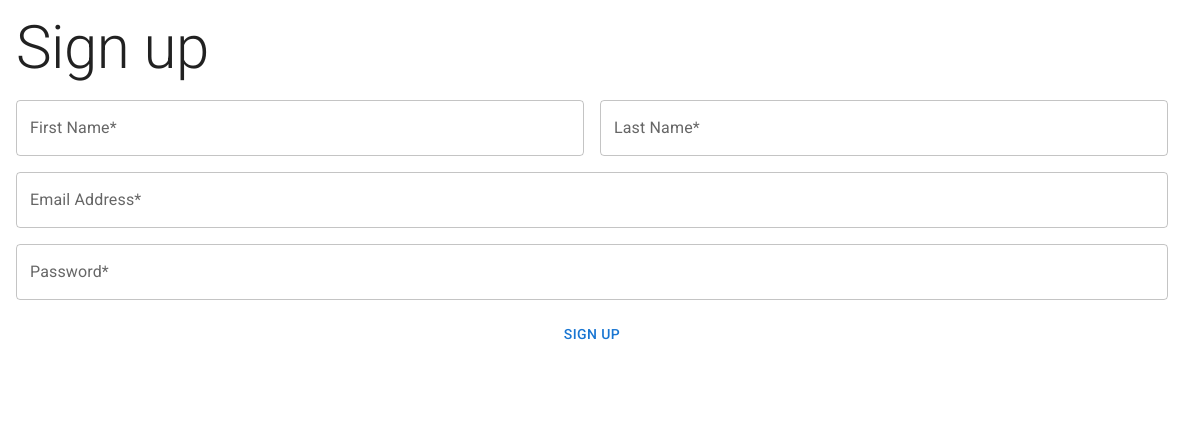
Test: template spec › should appear message of server error
The width and height of the screenshot is (1185, 426).
Type "João" into the element with test id "firstNameInput" at (300, 128), box left=16, top=100, right=584, bottom=156
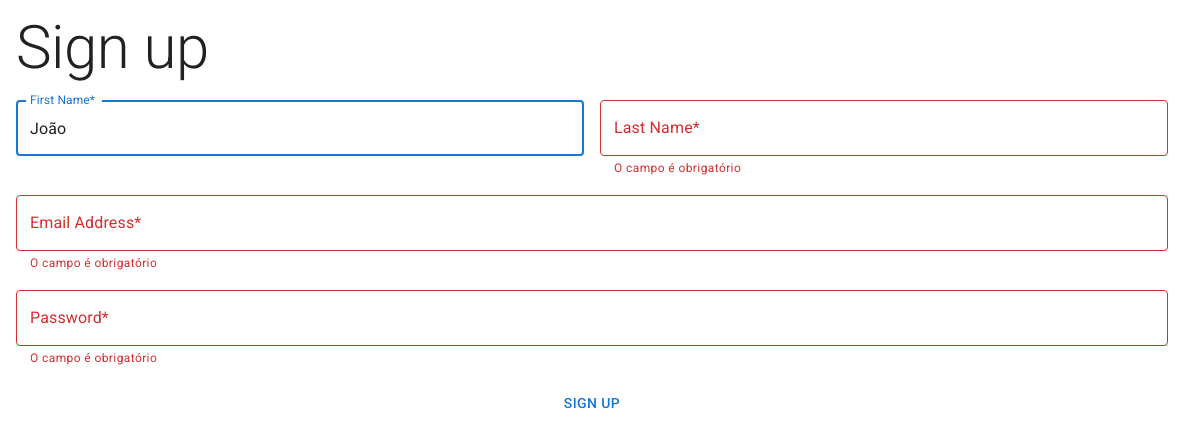
Type "Silva" into the element with test id "lastNameInput" at (884, 140), box left=600, top=100, right=1168, bottom=179
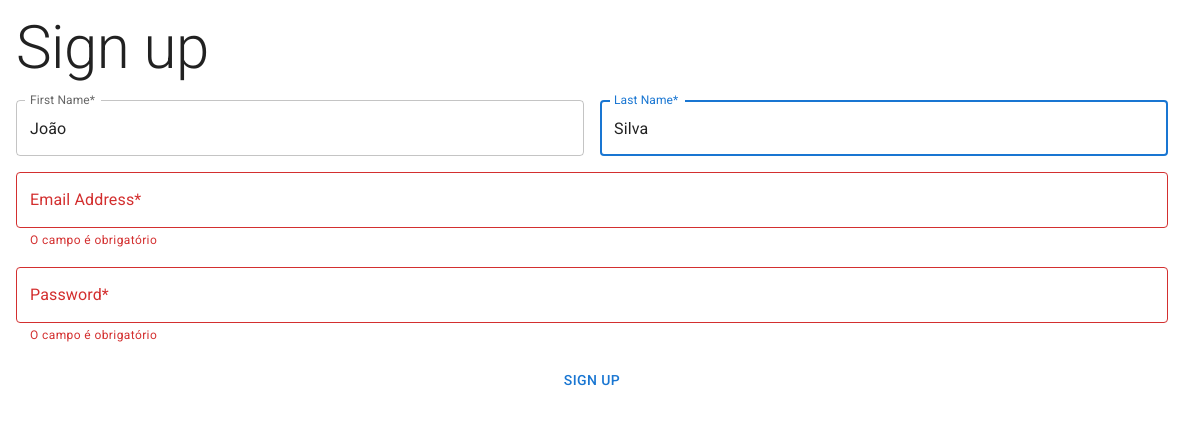
Type "joao@gmail.com" into the element with test id "emailInput" at (592, 212), box left=16, top=172, right=1168, bottom=251
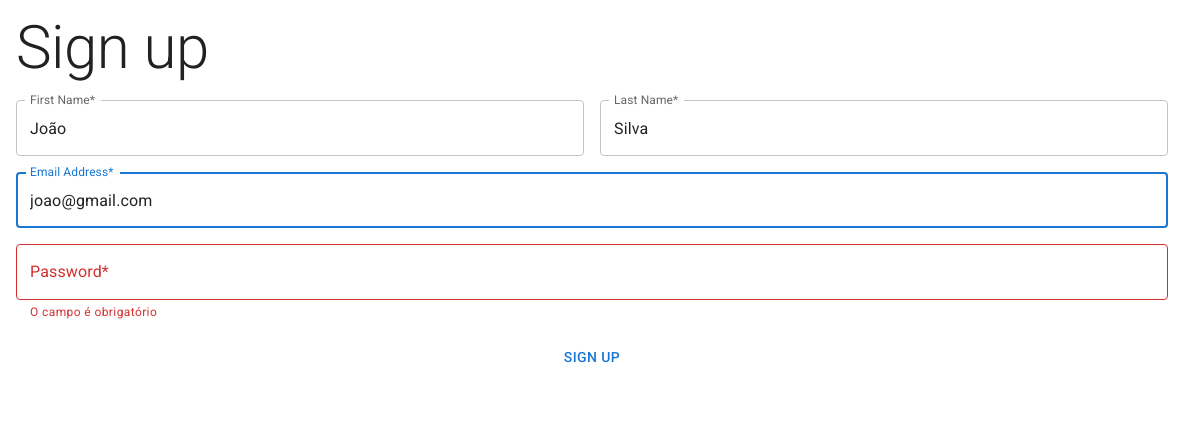
Type "123456789" into the element with test id "passwordInput" at (592, 284), box left=16, top=244, right=1168, bottom=323
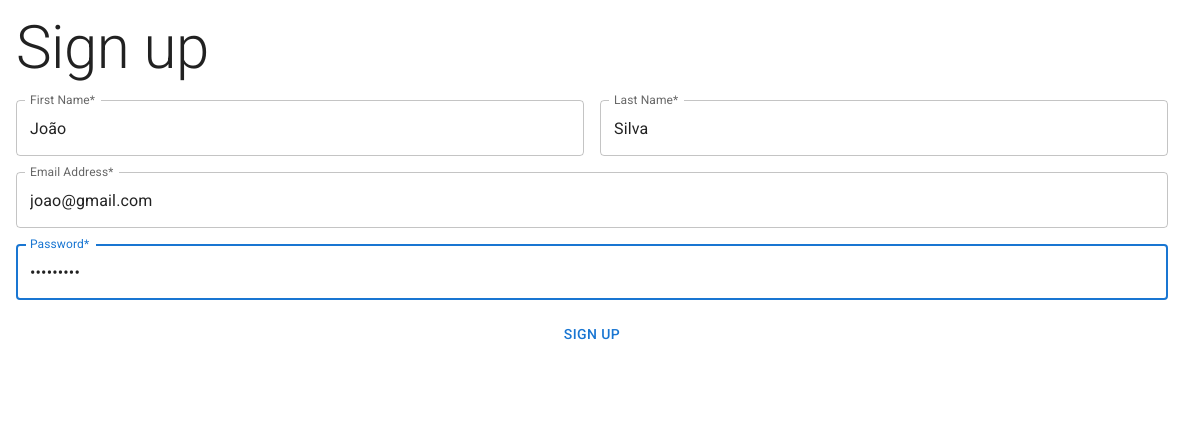
Click the button with test id "signUpButton" at (592, 335), box left=16, top=316, right=1168, bottom=353
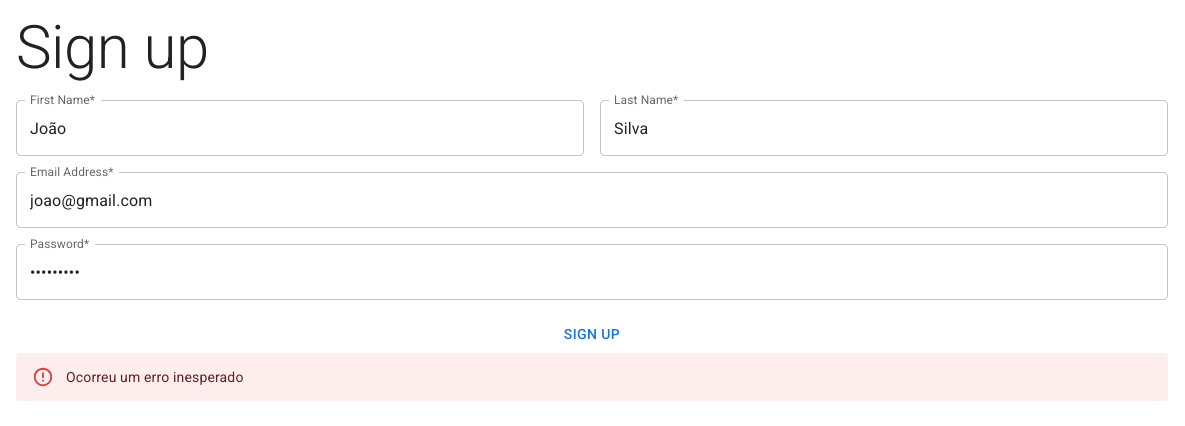
Check: the message "Ocorreu um erro inesperado" is shown, box left=16, top=352, right=1168, bottom=400
Check: the text "Ocorreu um erro inesperado" is shown, box left=66, top=368, right=244, bottom=384
